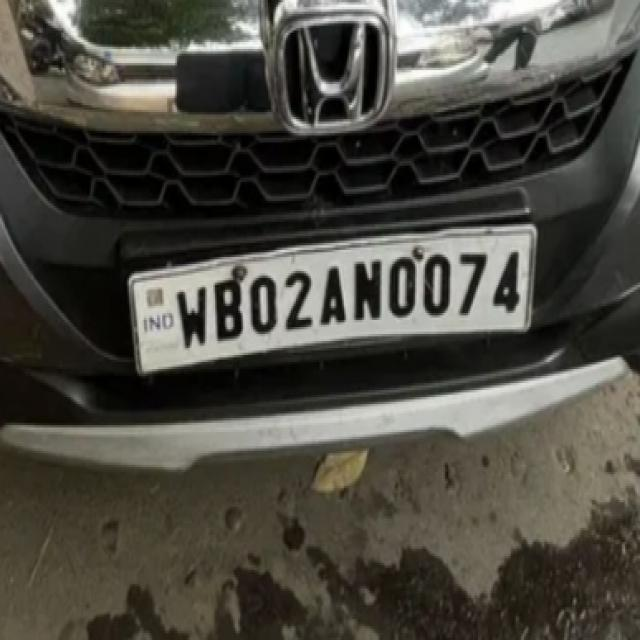0: (244, 267, 281, 340), (421, 246, 454, 318), (386, 257, 417, 323)
4: (493, 248, 527, 319)
7: (460, 242, 490, 324)
A: (318, 262, 348, 334)
B: (212, 276, 245, 342)
N: (352, 250, 385, 327)
W: (173, 280, 210, 352)
